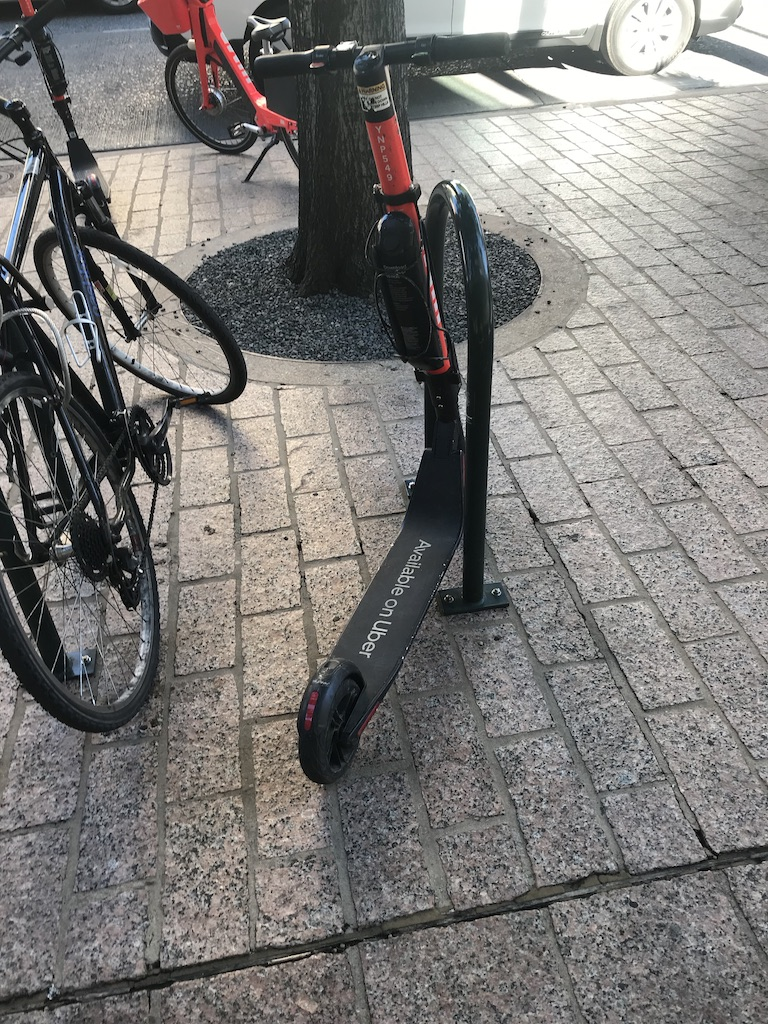scooter: (253, 30, 514, 788), (34, 25, 111, 211)
